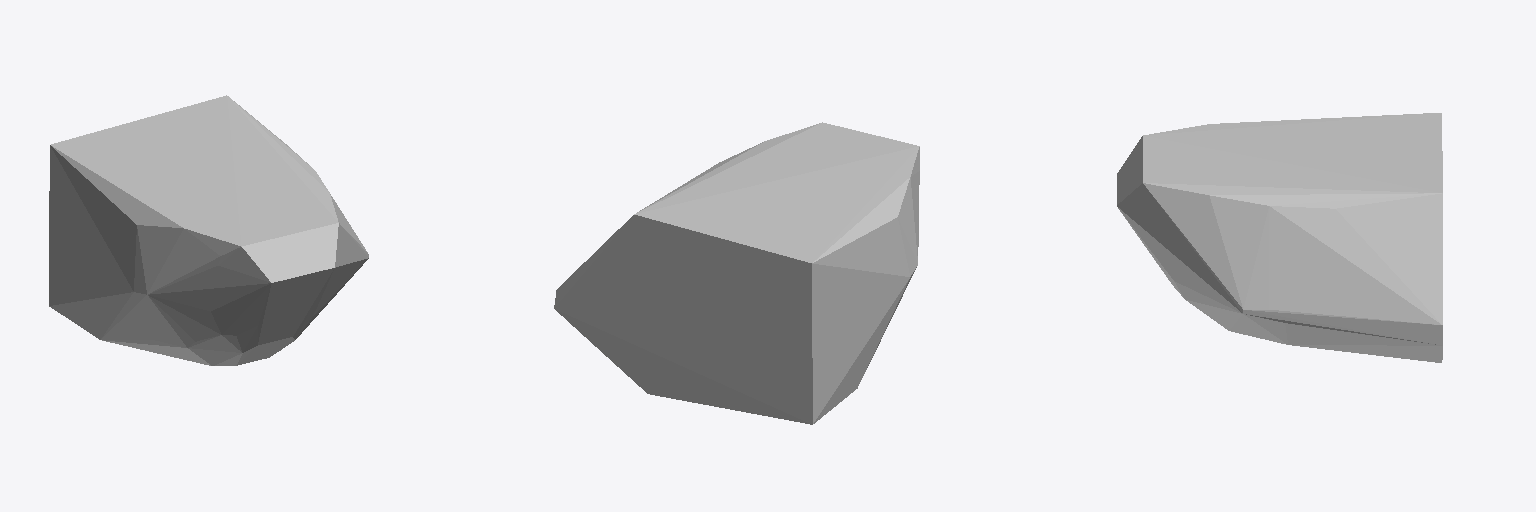
Rendered from airplane_001_collision_1.obj.
3 renders of one model, left to right at view 1: azimuth 30°, elevation 25°; view 2: azimuth 150°, elevation 25°; view 3: azimuth 270°, elevation 25°, orthographic.
Size of the model in its own units: 1.5 by 0.9598 by 1.61.